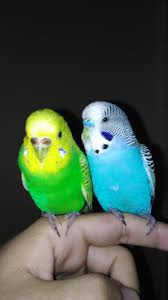budgie: (80, 100, 165, 238), (18, 107, 88, 234)
